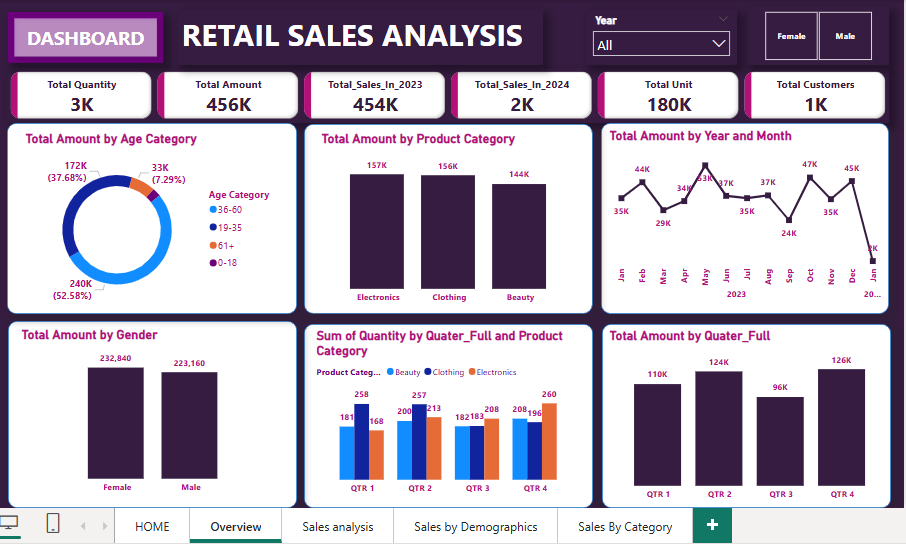

Layout of this report page (visuals, bound fields, positions):
{"tool":"powerbi","page":{"name":"Overview","canvas":[1280,720],"ordinal":1},"visuals":[{"type":"slicer","fields":{"Values":["retail_sales_dataset.Gender"]},"box":[1059.2,10.1,200.6,82.3],"z":0},{"type":"slicer","fields":{"Values":["retail_sales_dataset.Year"]},"box":[830.6,14.2,214,78],"z":1000},{"type":"cardVisual","fields":{"Data":["All Kpi.Total Quantity","All Kpi.Total Amount","All Kpi.Total_Sales_In_2023","All Kpi.Total_Sales_In_2024","All Kpi.Total Unit","All Kpi.Total Customers"]},"box":[9.9,96.4,1250.1,78],"z":2000},{"type":"textbox","box":[252.5,14.4,516.6,77.9],"z":3000},{"type":"shape","box":[430.9,459.2,409.6,260.8],"z":4000},{"type":"shape","box":[851.8,174.3,408.2,270.7],"z":5000},{"type":"shape","box":[430.9,175.7,409.6,269.3],"z":6000},{"type":"shape","box":[11.3,455,409.6,265],"z":7000},{"type":"shape","box":[9.9,174.3,411,270.7],"z":8000},{"type":"shape","box":[853.2,459.2,409.6,260.8],"z":9000},{"type":"clusteredColumnChart","fields":{"Y":["Sum(retail_sales_dataset.Quantity)"],"Series":["retail_sales_dataset.Product Category"],"Category":["retail_sales_dataset.Quater_Full"]},"box":[443.5,465.3,386.4,245.2],"z":10000},{"type":"donutChart","fields":{"Y":["All Kpi.Total Amount"],"Category":["retail_sales_dataset.Age Category"]},"box":[31.2,185.7,372.8,259.4],"z":11000},{"type":"clusteredColumnChart","fields":{"Category":["retail_sales_dataset.Product Category"],"Y":["All Kpi.Total Amount"]},"box":[450.7,185.7,372.8,253.7],"z":12000},{"type":"columnChart","fields":{"Y":["All Kpi.Total Amount"],"Category":["retail_sales_dataset.Gender"]},"box":[25.2,463.6,386.4,245.2],"z":13000},{"type":"lineChart","fields":{"Y":["All Kpi.Total Amount"],"Category":["retail_sales_dataset.Year Hierarchy.Year","retail_sales_dataset.Year Hierarchy.Month"]},"box":[858.9,181.4,395.4,258],"z":14000},{"type":"columnChart","fields":{"Category":["retail_sales_dataset.Quater_Full"],"Y":["All Kpi.Total Amount"]},"box":[858.4,465.3,409.9,253.6],"z":15000},{"type":"actionButton","box":[11.3,17,219.7,72.3],"z":16000}]}

Visuals, with their boxes on the page's 1280x720 design canvas (x1, y1, x2, y2). These are canvas units, not pixel positions in the 906x544 screenshot, which may show the page scaled, cropped or inside an application window:
slicer - retail_sales_dataset.Gender: rect(1059, 10, 1260, 92)
slicer - retail_sales_dataset.Year: rect(831, 14, 1045, 92)
cardVisual - All Kpi.Total Quantity x All Kpi.Total Amount: rect(10, 96, 1260, 174)
textbox: rect(252, 14, 769, 92)
shape: rect(431, 459, 840, 720)
shape: rect(852, 174, 1260, 445)
shape: rect(431, 176, 840, 445)
shape: rect(11, 455, 421, 720)
shape: rect(10, 174, 421, 445)
shape: rect(853, 459, 1263, 720)
clusteredColumnChart - Sum(retail_sales_dataset.Quantity) x retail_sales_dataset.Product Category: rect(444, 465, 830, 710)
donutChart - All Kpi.Total Amount x retail_sales_dataset.Age Category: rect(31, 186, 404, 445)
clusteredColumnChart - retail_sales_dataset.Product Category x All Kpi.Total Amount: rect(451, 186, 824, 439)
columnChart - All Kpi.Total Amount x retail_sales_dataset.Gender: rect(25, 464, 412, 709)
lineChart - All Kpi.Total Amount x retail_sales_dataset.Year Hierarchy.Year: rect(859, 181, 1254, 439)
columnChart - retail_sales_dataset.Quater_Full x All Kpi.Total Amount: rect(858, 465, 1268, 719)
actionButton: rect(11, 17, 231, 89)
